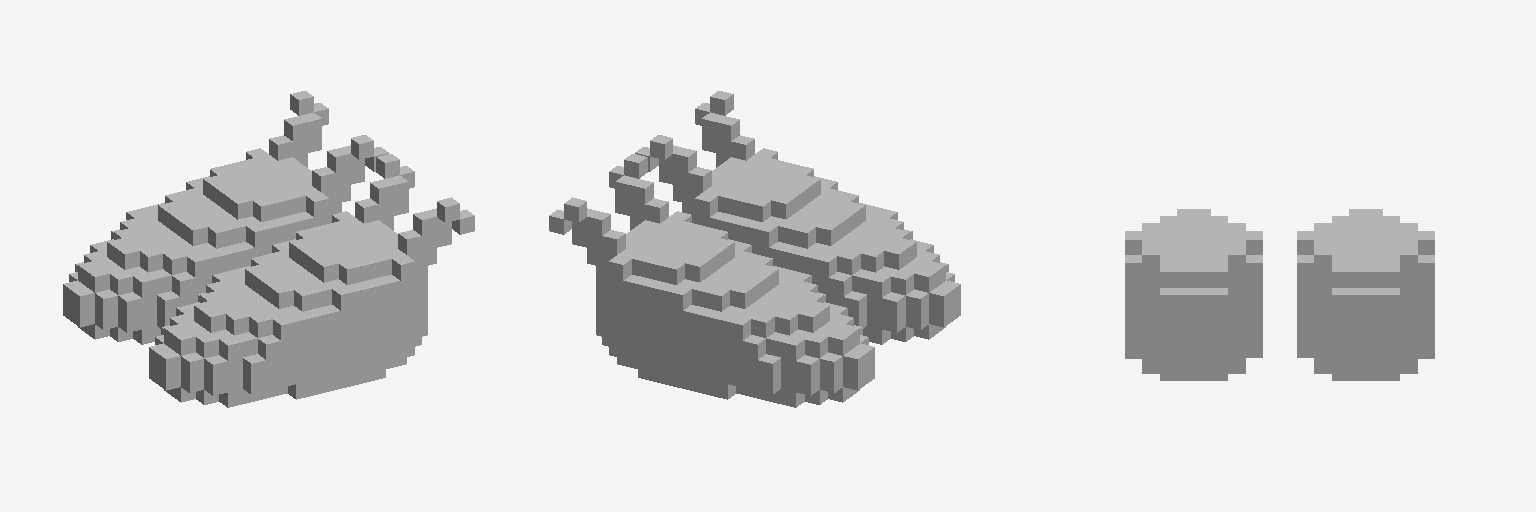
The model's file is Gojos Speed Boots.obj.
The picture shows the model from 3 angles: view 1: azimuth 30°, elevation 25°; view 2: azimuth 150°, elevation 25°; view 3: azimuth 270°, elevation 25°; orthographic projection.
Parts seen in each view (by area): view 1: object 1; view 2: object 1; view 3: object 1.
Part boxes in pixels (left/top/right/bottom): object 1: left=63, top=91, right=474, bottom=407; object 1: left=549, top=91, right=960, bottom=407; object 1: left=1125, top=209, right=1434, bottom=380.
Bounding box in the file's own units: 1.9 × 1 × 1.8.